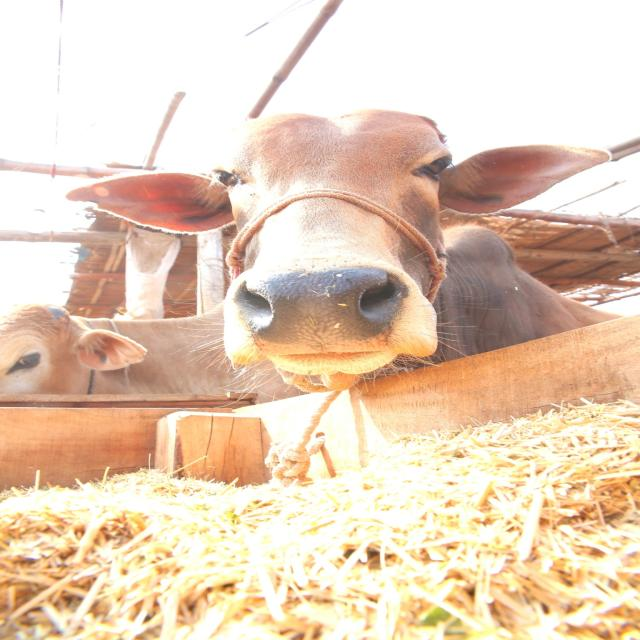muzzles: (224, 264, 416, 363)
